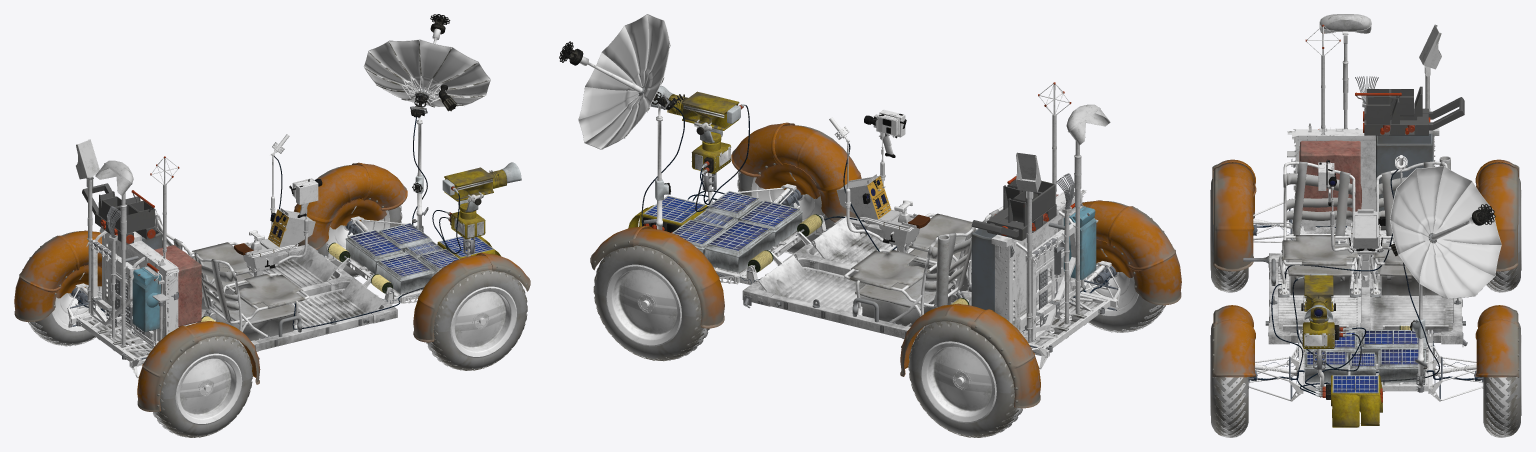
3 views of the same model, side by side, from view 1: azimuth 30°, elevation 25°; view 2: azimuth 150°, elevation 25°; view 3: azimuth 270°, elevation 25° (orthographic). The views are drawn at different scales.
Visible parts, largest first — view 1: ApolloRoverRig__1.001_2; view 2: ApolloRoverRig__1.001_2; view 3: ApolloRoverRig__1.001_2.
Part boxes in pixels (x1,y1,x2,y2): ApolloRoverRig__1.001_2: (14, 14, 530, 437); ApolloRoverRig__1.001_2: (559, 14, 1181, 437); ApolloRoverRig__1.001_2: (1210, 14, 1521, 437).
Size of the model in its own units: 3.1 by 1.77 by 1.78.
9 materials, 7 textured.
